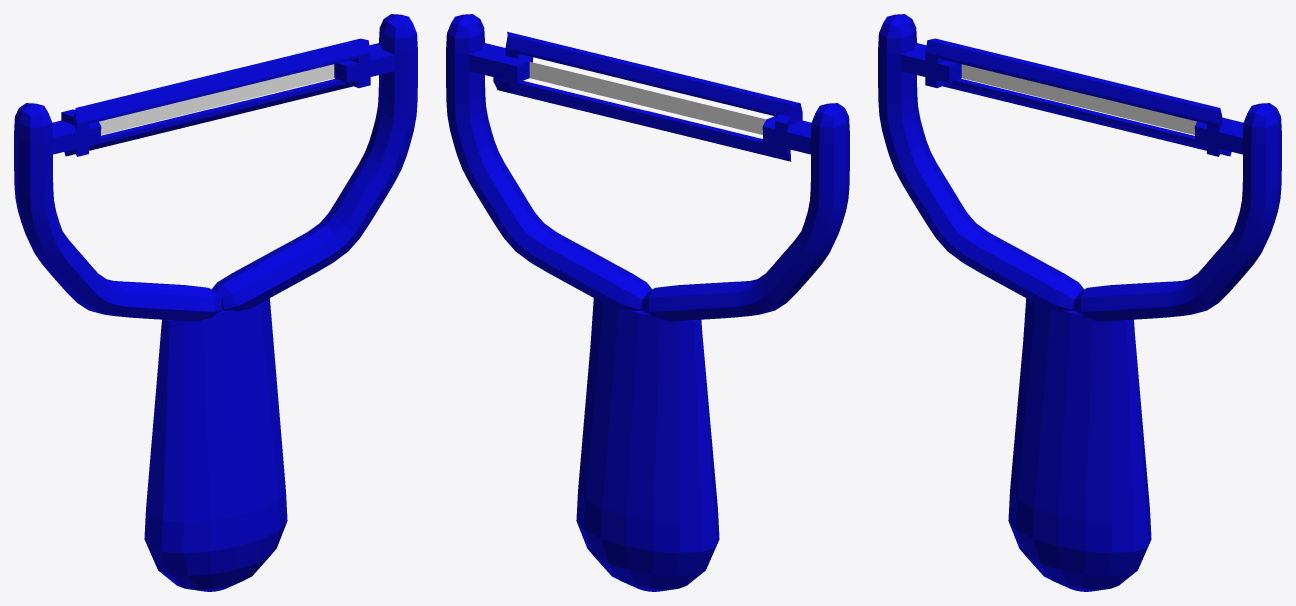
File: POTATO-peeler.fbx
The picture shows the model from 3 angles, left to right: view 1: azimuth 30°, elevation 25°; view 2: azimuth 150°, elevation 25°; view 3: azimuth 330°, elevation 25°; orthographic projection.
Parts seen in each view (by area): view 1: POTATO-peeler; view 2: POTATO-peeler; view 3: POTATO-peeler.
Part boxes in pixels (box(x1,y1,x2,y2)): POTATO-peeler: box(14, 14, 417, 591); POTATO-peeler: box(446, 14, 849, 591); POTATO-peeler: box(878, 14, 1281, 591).
Bounding box in the file's own units: 350 × 446 × 67.96.
